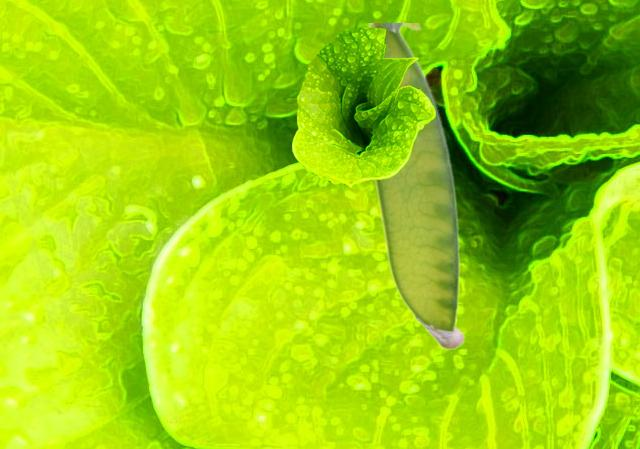pea: (367, 23, 464, 348)
